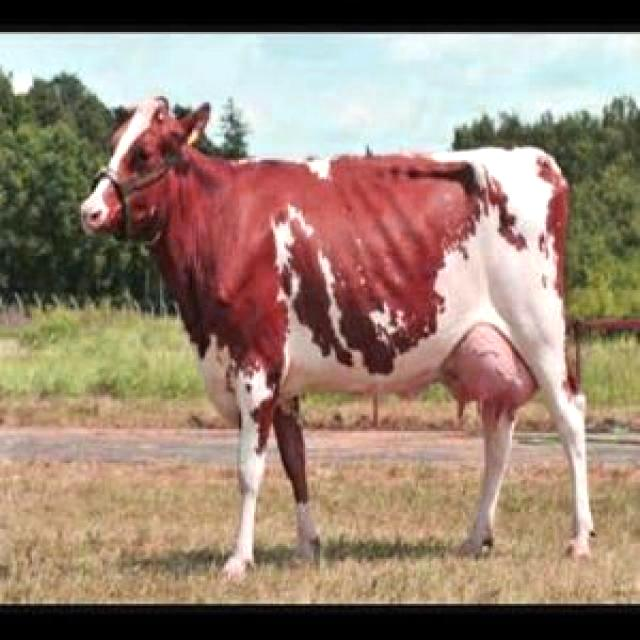COW: (81, 96, 592, 577)
